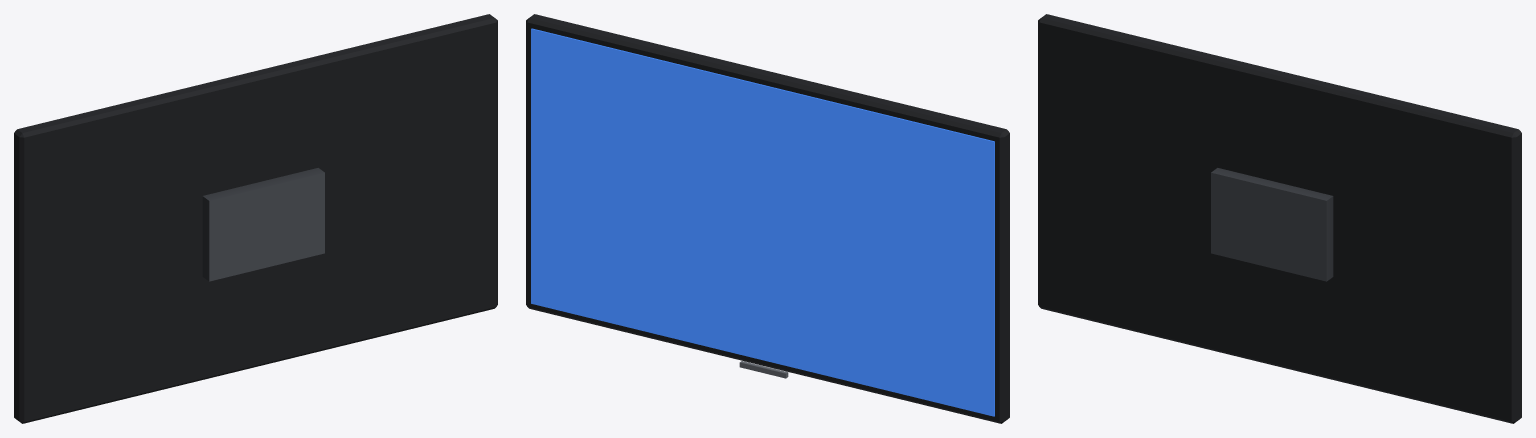
The model's file is tv_wall_01.glb.
3 renders of one model, left to right at view 1: azimuth 30°, elevation 25°; view 2: azimuth 150°, elevation 25°; view 3: azimuth 330°, elevation 25°, orthographic.
Parts seen in each view (by area): view 1: tv_wall_01_mesh; view 2: tv_wall_01_screen, tv_wall_01_mesh; view 3: tv_wall_01_mesh.
Part boxes in pixels (x1,y1,x2,y2): tv_wall_01_mesh: (14,14,497,423); tv_wall_01_screen: (531,28,994,416); tv_wall_01_mesh: (526,14,1009,423); tv_wall_01_mesh: (1038,14,1521,423).
Size of the model in its own units: 1.24 by 0.732 by 0.074.
2 materials, 2 textured.
